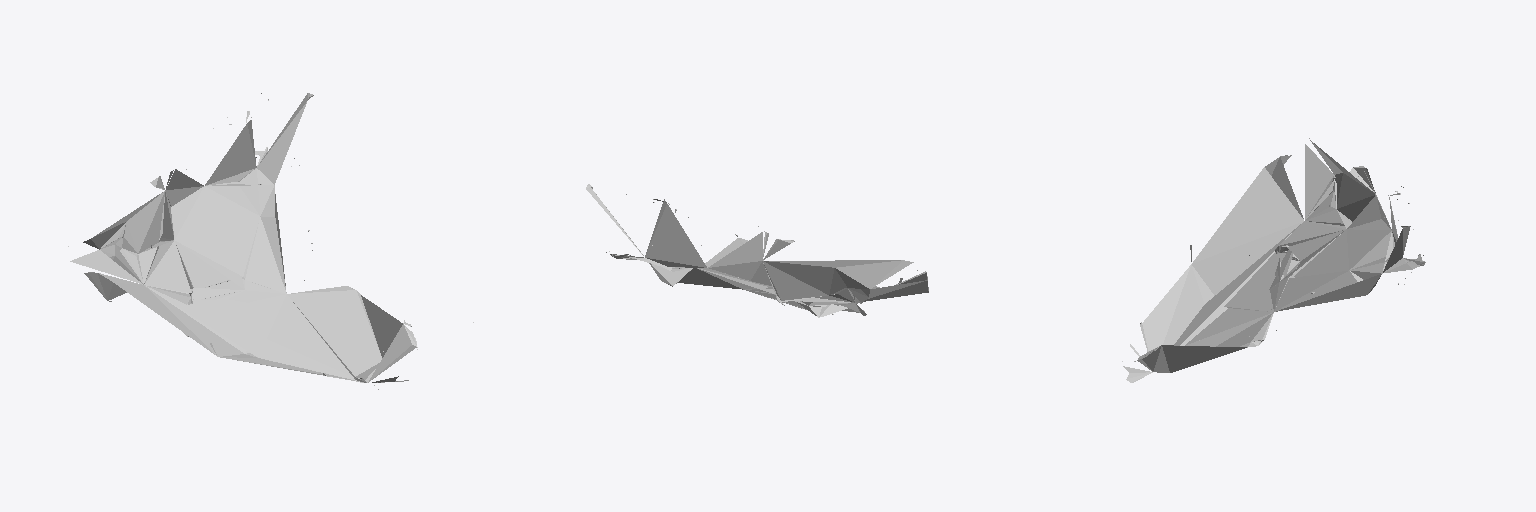
Rendered from pizza_862.obj.
3 views of the same model, side by side, from view 1: azimuth 30°, elevation 25°; view 2: azimuth 150°, elevation 25°; view 3: azimuth 270°, elevation 25° (orthographic).
Bounding box in the file's own units: 1.61 × 0.8102 × 1.27.